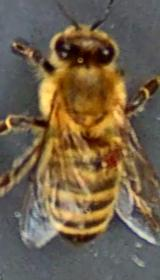varroa_mite: (93, 138, 125, 174)
